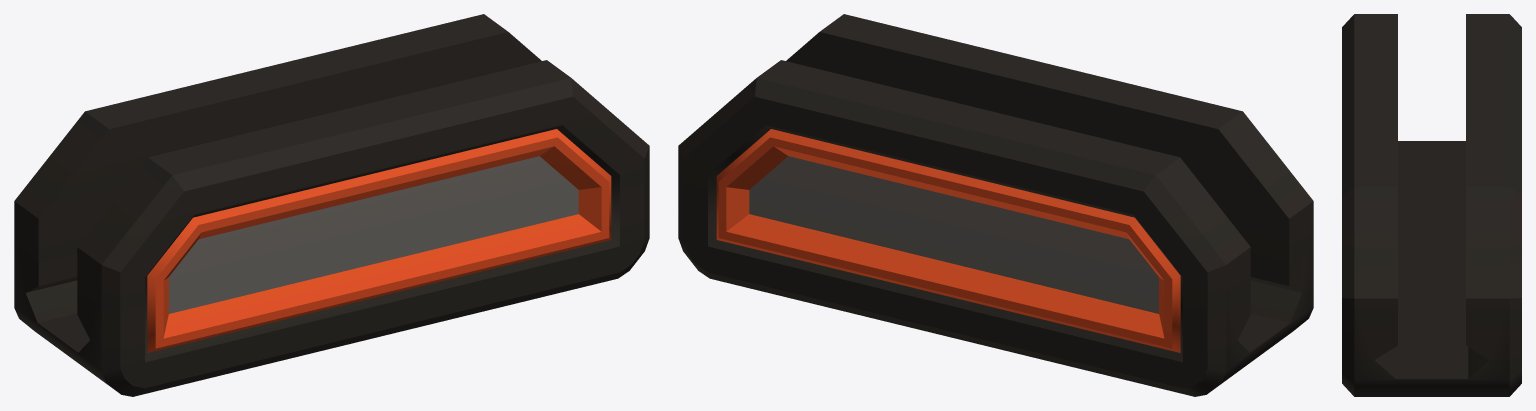
File: AR10_Handguard.fbx
3 views of the same model, side by side, from view 1: azimuth 30°, elevation 25°; view 2: azimuth 150°, elevation 25°; view 3: azimuth 270°, elevation 25° (orthographic). The views are drawn at different scales.
Parts seen in each view (by area): view 1: AR10_Handguard; view 2: AR10_Handguard; view 3: AR10_Handguard.
Boxes of the visible parts, bbox=[...] form: AR10_Handguard: bbox=[14, 14, 649, 396]; AR10_Handguard: bbox=[678, 14, 1313, 396]; AR10_Handguard: bbox=[1342, 14, 1521, 396].
Bounding box in the file's own units: 12.65 × 4.68 × 4.04.
